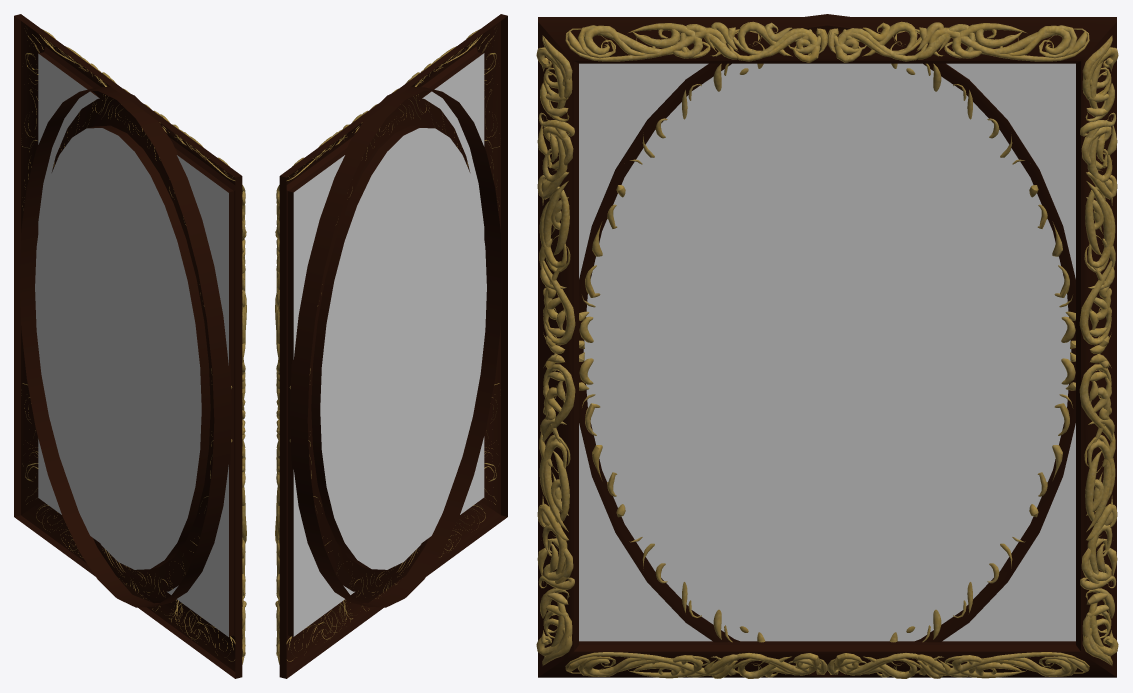
The model's file is portrait_frames.fbx.
3 views of the same model, side by side, from view 1: azimuth 30°, elevation 25°; view 2: azimuth 150°, elevation 25°; view 3: azimuth 270°, elevation 25° (orthographic). The views are drawn at different scales.
Parts seen in each view (by area): view 1: Portrait_04, Portrait_03, Portrait_02, Portrait_01; view 2: Portrait_04, Portrait_03, Portrait_02, Portrait_01; view 3: Portrait_03, Portrait_02, Portrait_01, Portrait_04.
Part boxes in pixels (box(x1,y1,x2,y2)): Portrait_04: box(19, 86, 232, 607); Portrait_03: box(14, 14, 246, 678); Portrait_02: box(22, 34, 245, 661); Portrait_01: box(29, 31, 246, 652); Portrait_04: box(289, 86, 502, 607); Portrait_03: box(275, 14, 507, 678); Portrait_02: box(276, 34, 499, 661); Portrait_01: box(275, 31, 492, 652); Portrait_03: box(536, 17, 1118, 678); Portrait_02: box(539, 27, 1115, 675); Portrait_01: box(537, 21, 1117, 678); Portrait_04: box(579, 14, 1075, 677).
Bounding box in the file's own units: 61.36 × 1000 × 804.
6 materials, 4 textured.
